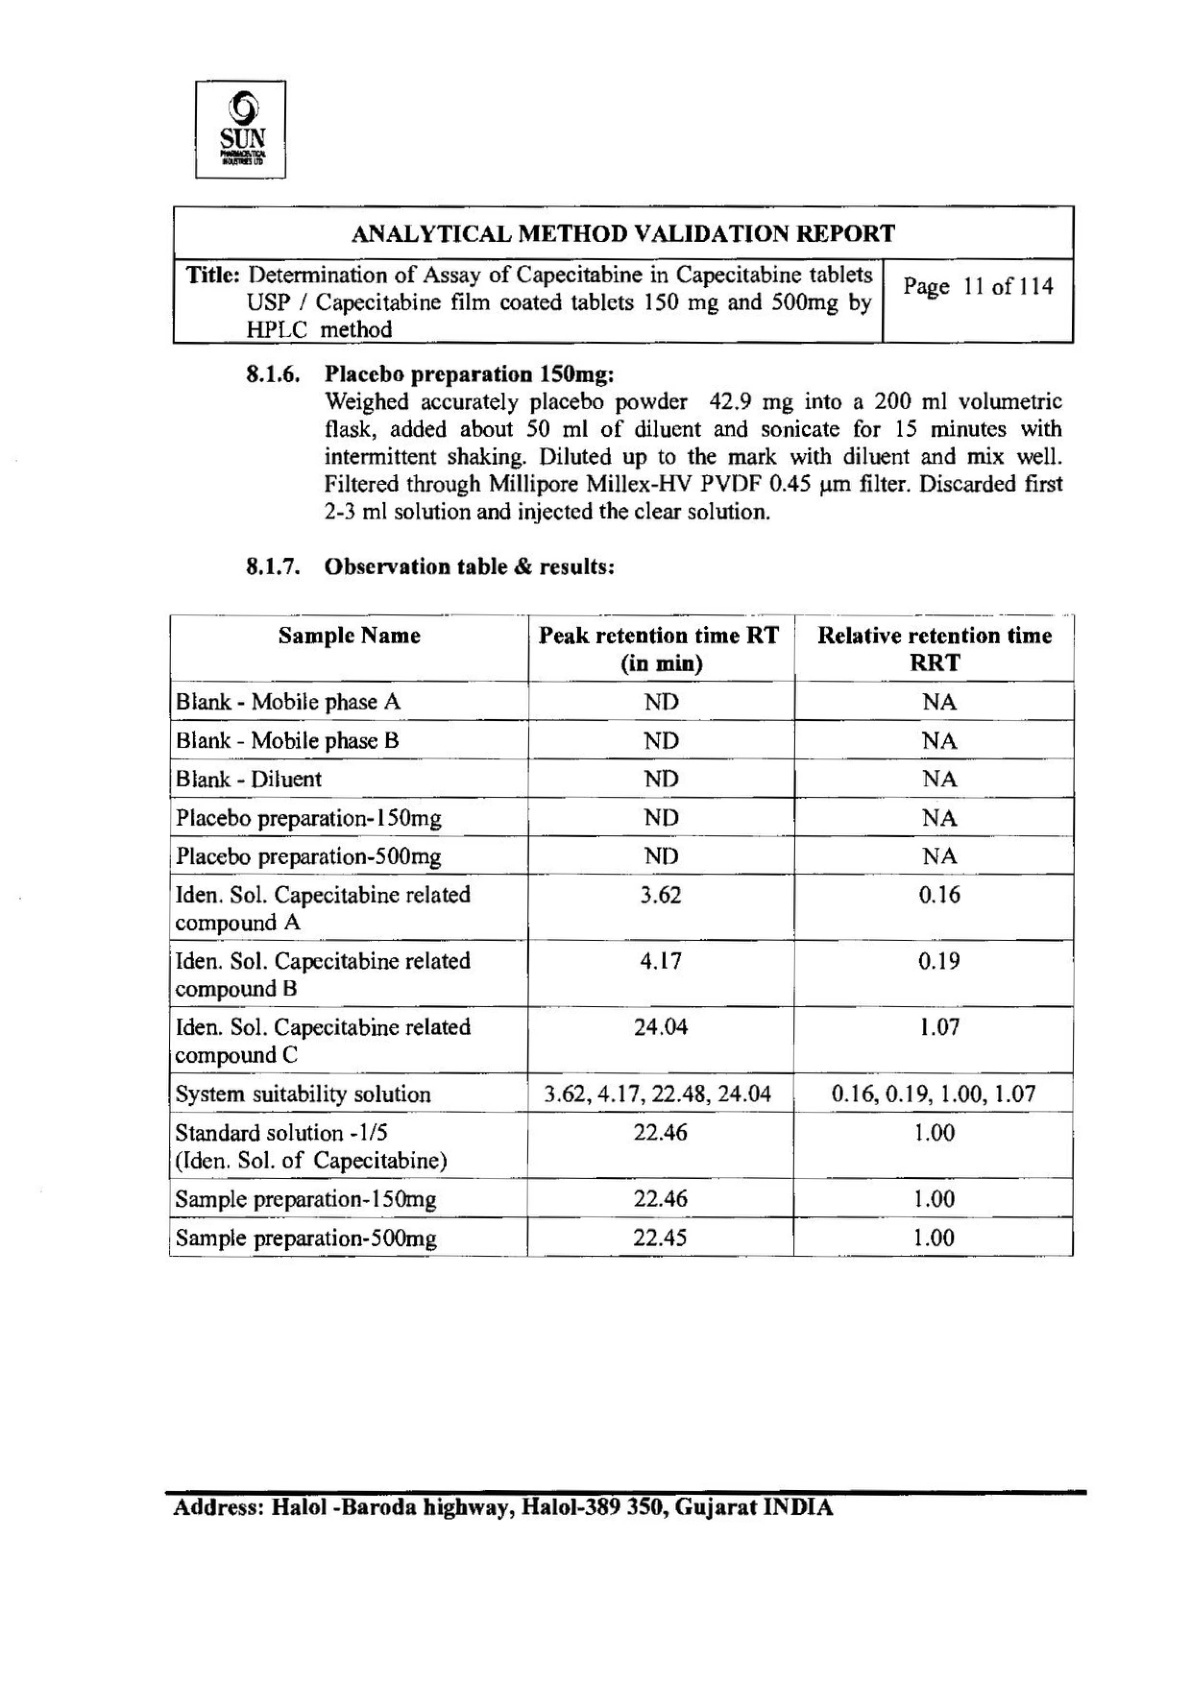full_lined: (166, 612, 1075, 1259)
merged_cells: (171, 204, 1075, 345)
